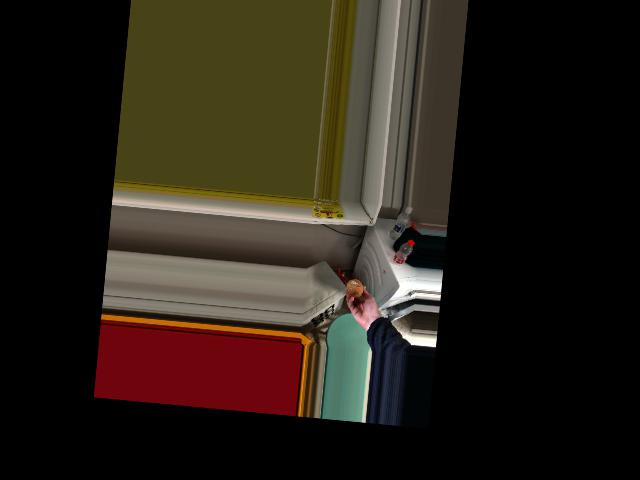sweet_potato: (346, 279, 364, 300)
